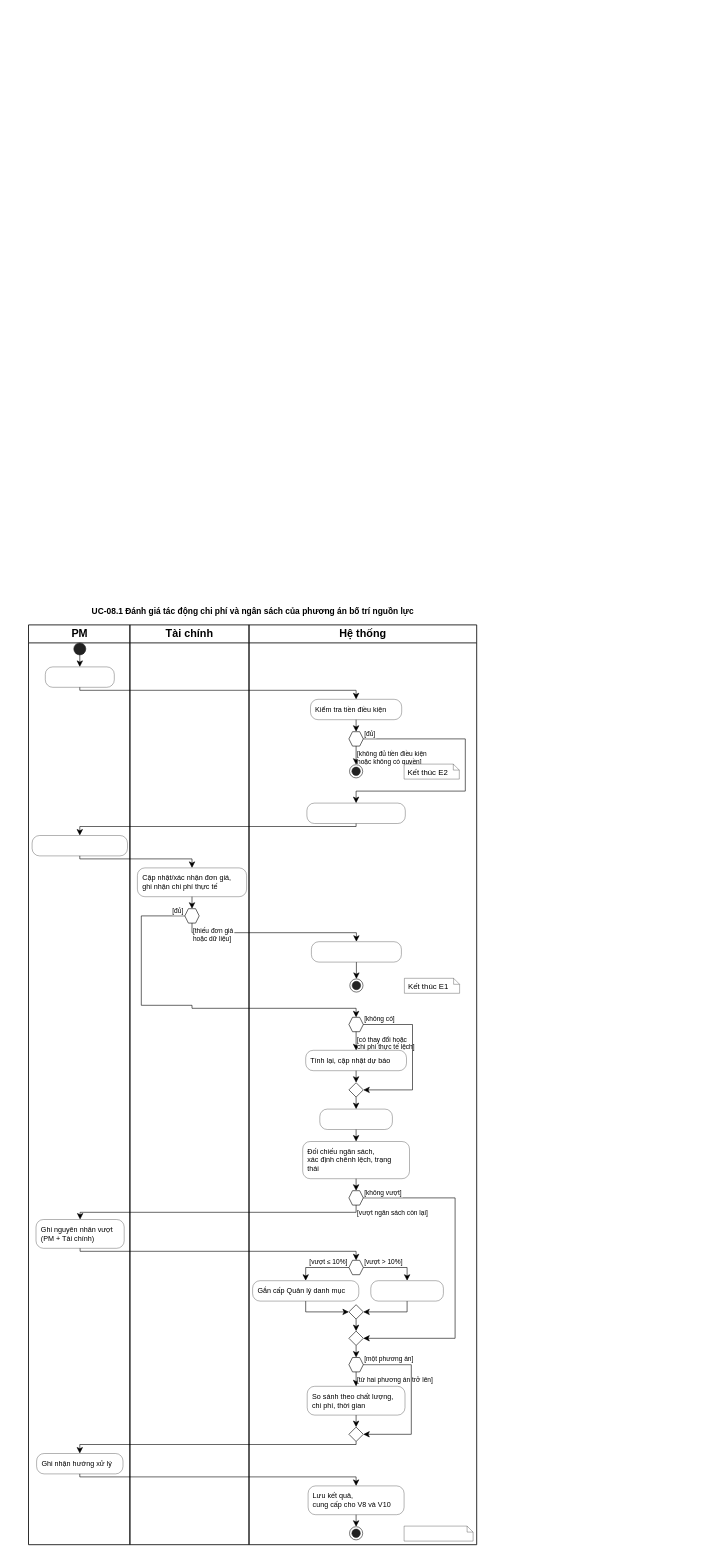
This 728x1555 diagram has some shape labels left out. The shapes that lost their labels are listed below. From the top down, each one's centre as x and y in pixels, then its label:
At [79,676]: "Chọn phương án".
At [355,813]: "Trình bày yếu tố chi phí".
At [79,845]: "Xác nhận yếu tố chi phí".
At [356,951]: "Đánh dấu dữ liệu thiếu".
At [355,1119]: "Xác định dự toán".
At [406,1290]: "Gắn cấp CEO/MD".
At [438,1533]: "Kết thúc chính".
